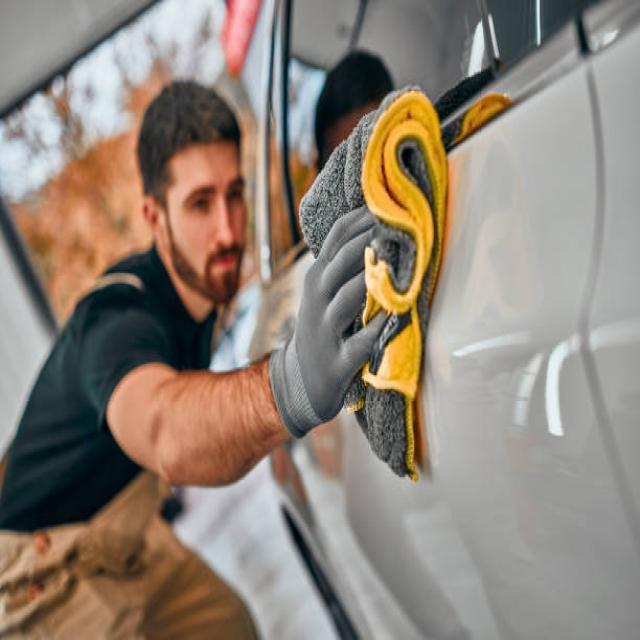Gloves: (262, 202, 400, 452)
person: (0, 79, 398, 640)
